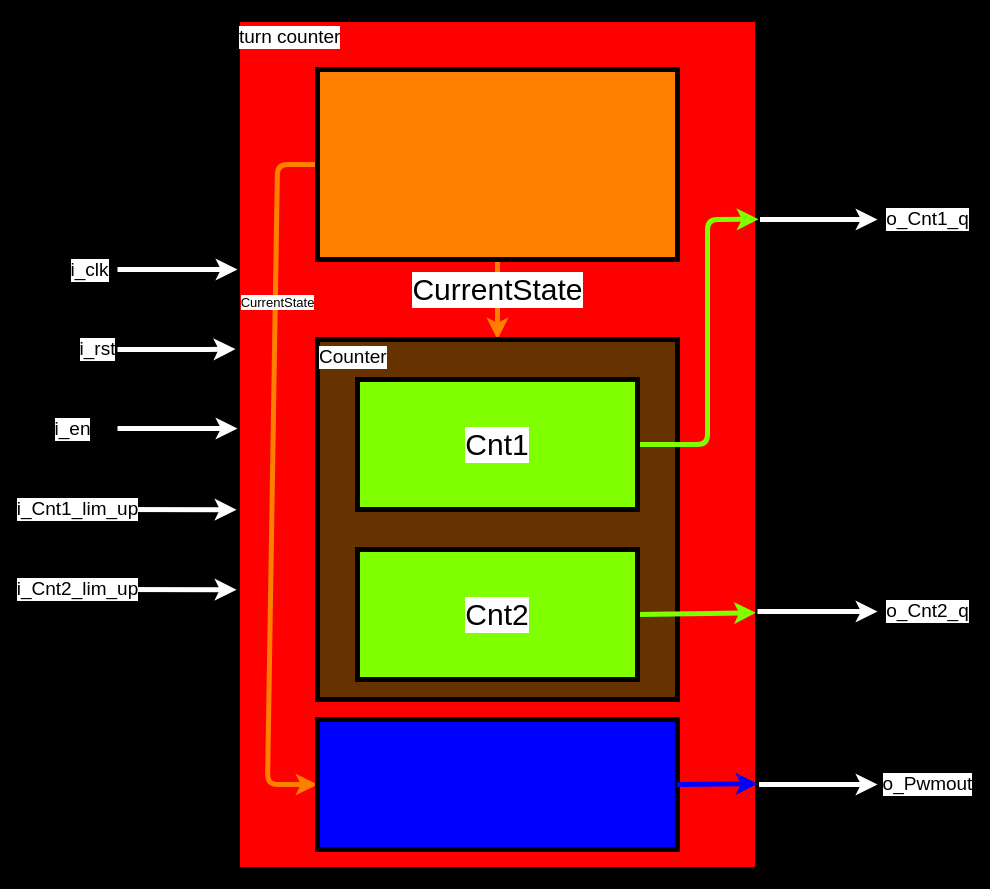
Some shapes in this 990 by 889 pixel diagram are drawn without their labels. Here are the shapes that lost their labels. From the top down, the centre of each, then its label:
point 497,164: FSM
point 497,784: PWMOUT
